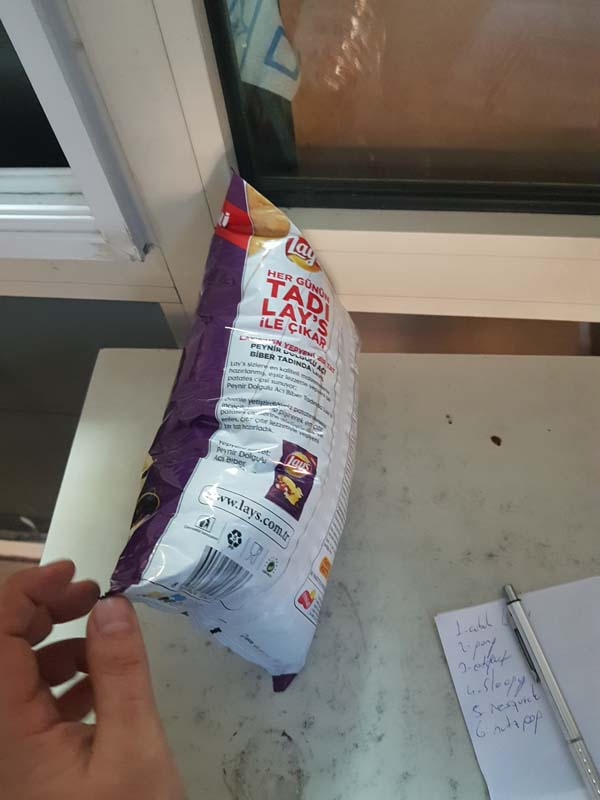layspeynirsoslu: (110, 166, 367, 689)
